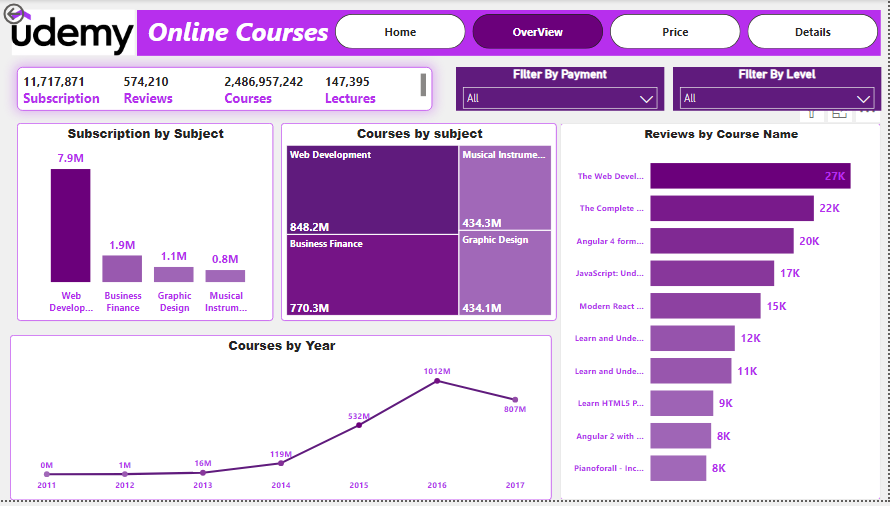

This screenshot's page, from the dashboard's own definition file:
{"tool":"powerbi","page":{"name":"OverView","canvas":[1280,720],"ordinal":1},"visuals":[{"type":"image","box":[0,8.6,210,75.7],"z":0},{"type":"textbox","box":[197.1,14.3,1071.4,65.7],"z":1000},{"type":"multiRowCard","fields":{"Values":["udemy.Subscription","udemy.Reviews","udemy.Courses","udemy.Lectures"]},"box":[24.5,96.5,597.6,63.4],"z":2000},{"type":"columnChart","title":"Subscription by Subject","fields":{"Y":["udemy.Subscription"],"Category":["udemy.subject"]},"box":[24.5,177.1,368.6,285.1],"z":3000},{"type":"treemap","fields":{"Values":["udemy.Courses"],"Group":["udemy.subject"]},"box":[404.6,177.1,397.4,285.1],"z":4000},{"type":"lineChart","fields":{"Y":["udemy.Courses"],"Category":["udemy.published_timestamp.Variation.Date Hierarchy.Year"]},"box":[14.4,482.4,780.5,237.6],"z":5000},{"type":"clusteredBarChart","title":"Reviews by Course Name","fields":{"Category":["udemy.course_titel"],"Y":["udemy.Reviews"]},"box":[806.4,177.1,462.2,542.9],"z":6000},{"type":"slicer","title":"FIlter By Payment","fields":{"Values":["udemy.Payment"]},"box":[656.6,96.5,299.5,63.4],"z":7000},{"type":"slicer","title":"FIlter By Level","fields":{"Values":["udemy.level"]},"box":[969.1,96.5,299.5,63.4],"z":8000},{"type":"actionButton","box":[0,0,100,40],"z":9000},{"type":"pageNavigator","box":[482.4,20.2,784.8,50.4],"z":10000}]}

Visuals, with their boxes in screenshot pixels (x1, y1, x2, y2), scaled from the page's 1280x720 canvas onto the 890x506 screenshot:
image: 0, 6, 146, 59
textbox: 137, 10, 882, 56
multiRowCard - udemy.Subscription x udemy.Reviews: 17, 68, 433, 112
"Subscription by Subject" columnChart: 17, 124, 273, 325
treemap - udemy.Courses x udemy.subject: 281, 124, 558, 325
lineChart - udemy.Courses x udemy.published_timestamp.Variation.Date Hierarchy.Year: 10, 339, 553, 505
"Reviews by Course Name" clusteredBarChart: 561, 124, 882, 505
"FIlter By Payment" slicer: 457, 68, 665, 112
"FIlter By Level" slicer: 674, 68, 882, 112
actionButton: 0, 0, 70, 28
pageNavigator: 335, 14, 881, 50
